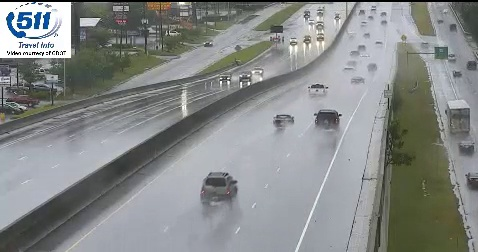car: (200, 173, 237, 202), (315, 110, 339, 131), (273, 114, 294, 127), (309, 83, 326, 97)
